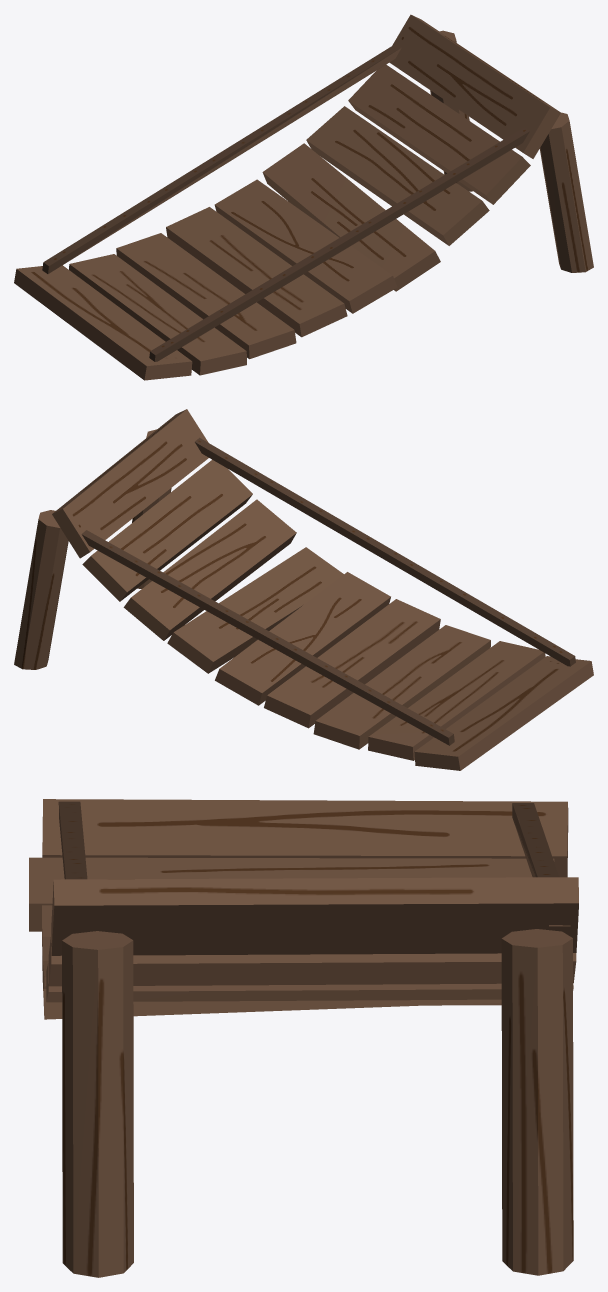
Rendered from PT_ramp_004.FBX.
The picture shows the model from 3 angles, top to bottom: view 1: azimuth 30°, elevation 25°; view 2: azimuth 150°, elevation 25°; view 3: azimuth 270°, elevation 25°; orthographic projection. The views are drawn at different scales.
Visible parts, largest first — view 1: Box159; view 2: Box159; view 3: Box159.
Boxes of the visible parts, x1,y1,x2,y2 form: Box159: (14, 14, 593, 380); Box159: (14, 409, 593, 770); Box159: (29, 799, 578, 1277).
Size of the model in its own units: 55.2 by 20.3 by 28.79.
Materials: 1 (1 with a texture image).
